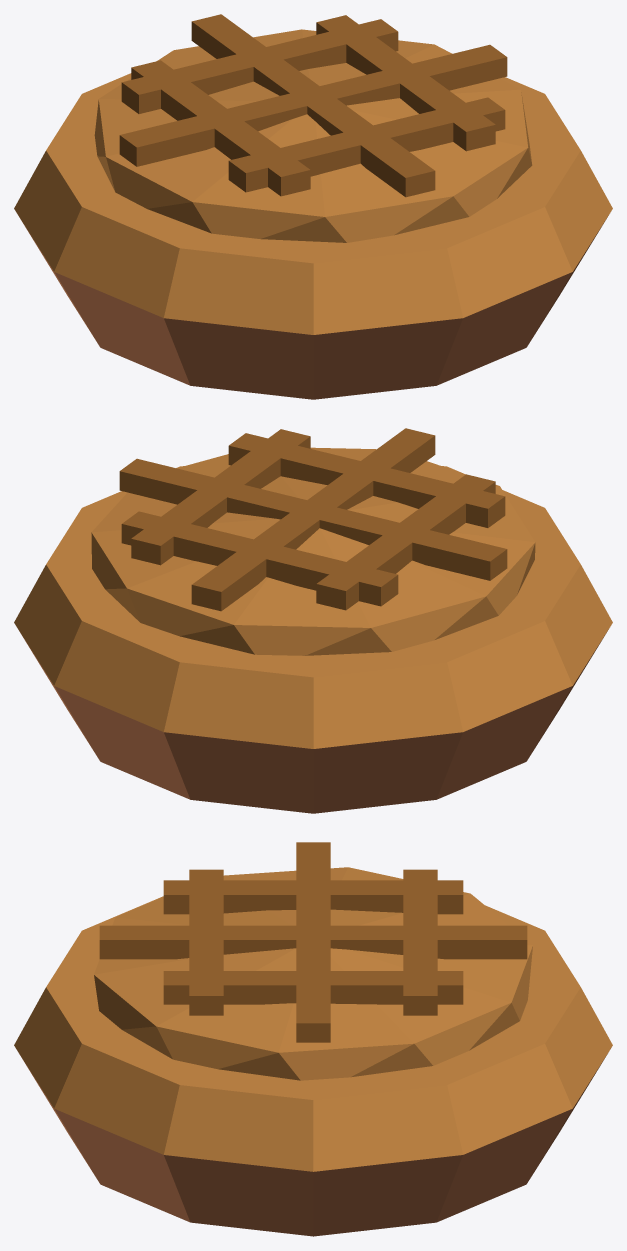
Rendered from drop_pie.glb.
3 renders of one model, top to bottom at view 1: azimuth 30°, elevation 25°; view 2: azimuth 150°, elevation 25°; view 3: azimuth 270°, elevation 25°, orthographic.
Parts seen in each view (by area): view 1: drop_pie; view 2: drop_pie; view 3: drop_pie.
Boxes of the visible parts, x1,y1,x2,y2 form: drop_pie: (14,14,612,399); drop_pie: (14,428,612,813); drop_pie: (14,842,612,1236).
Bounding box in the file's own units: 0.28 × 0.103 × 0.28.
